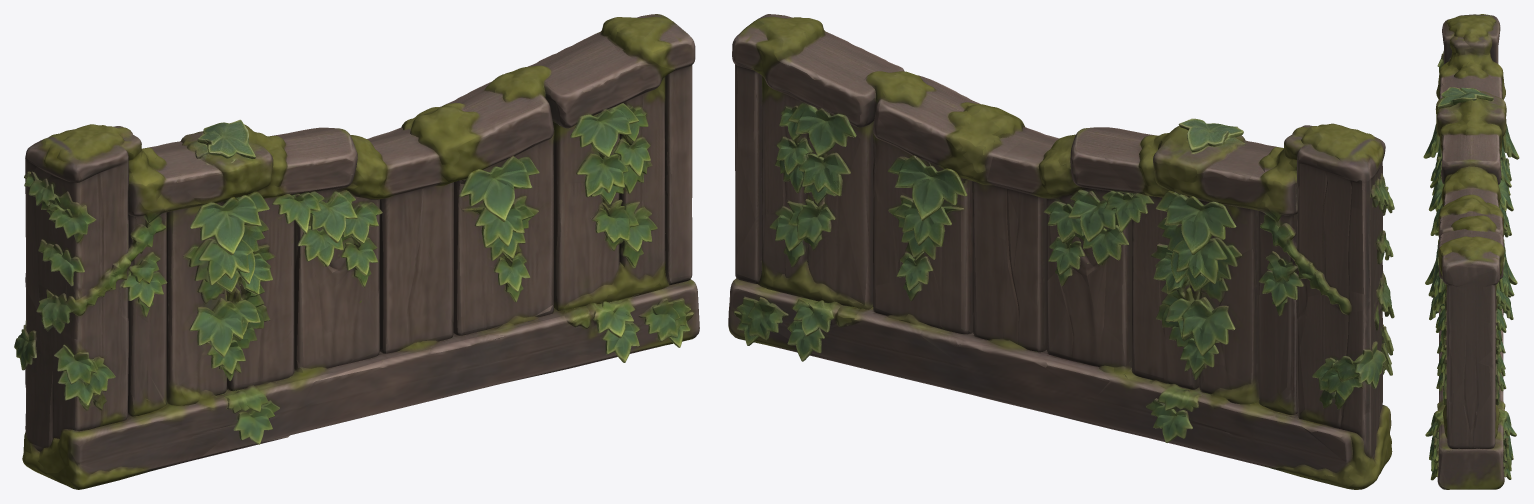
The model's file is wall-05.obj.
The picture shows the model from 3 angles, left to right: view 1: azimuth 30°, elevation 25°; view 2: azimuth 150°, elevation 25°; view 3: azimuth 270°, elevation 25°; orthographic projection. The views are drawn at different scales.
Parts seen in each view (by area): view 1: Meshy_AI_Ivy_Covered_Garden_Wa_0919053315_texture; view 2: Meshy_AI_Ivy_Covered_Garden_Wa_0919053315_texture; view 3: Meshy_AI_Ivy_Covered_Garden_Wa_0919053315_texture.
Boxes of the visible parts, left/top/right/bottom form: Meshy_AI_Ivy_Covered_Garden_Wa_0919053315_texture: left=14, top=14, right=699, bottom=489; Meshy_AI_Ivy_Covered_Garden_Wa_0919053315_texture: left=728, top=14, right=1394, bottom=489; Meshy_AI_Ivy_Covered_Garden_Wa_0919053315_texture: left=1423, top=14, right=1519, bottom=489.
Size of the model in its own units: 1.89 by 0.9418 by 0.3235.
Materials: 1 (1 with a texture image).
